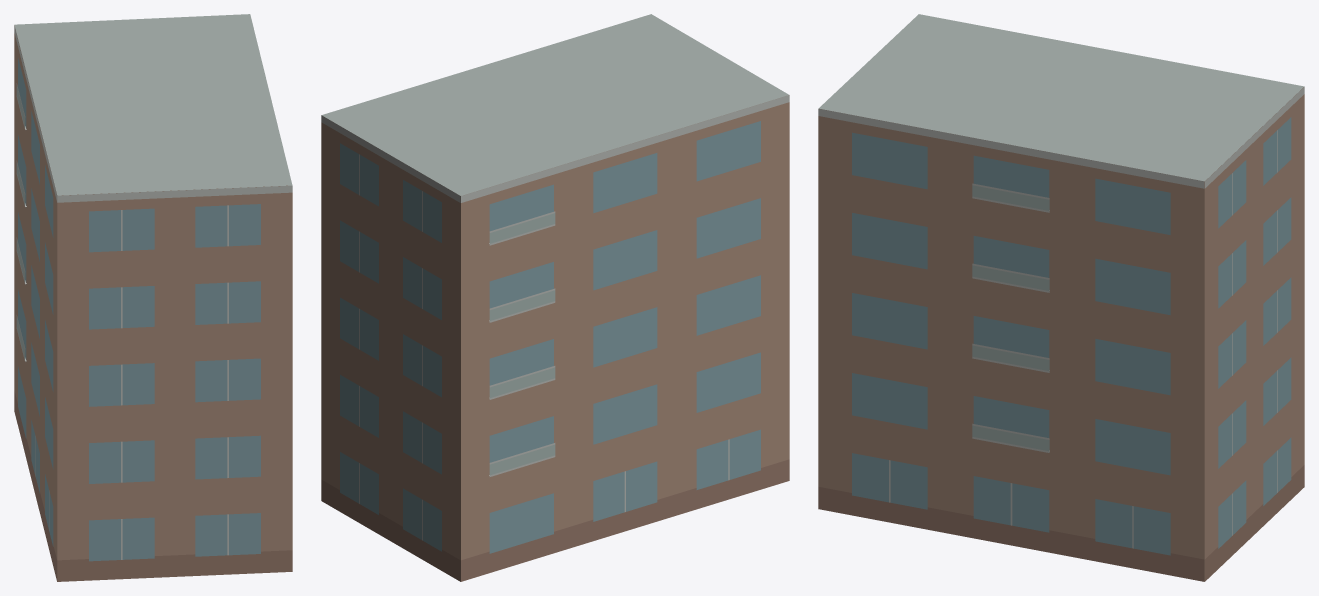
The model's file is survey-upis-33038358.glb.
3 renders of one model, left to right at view 1: azimuth 30°, elevation 25°; view 2: azimuth 150°, elevation 25°; view 3: azimuth 270°, elevation 25°, orthographic. The views are drawn at different scales.
Parts seen in each view (by area): view 1: survey-upis-33038358.tmp; view 2: survey-upis-33038358.tmp; view 3: survey-upis-33038358.tmp.
Part boxes in pixels (box(x1,y1,x2,y2)): survey-upis-33038358.tmp: box(14, 14, 292, 581); survey-upis-33038358.tmp: box(321, 14, 789, 581); survey-upis-33038358.tmp: box(818, 14, 1304, 581).
Size of the model in its own units: 11.84 by 13.2 by 14.53.
